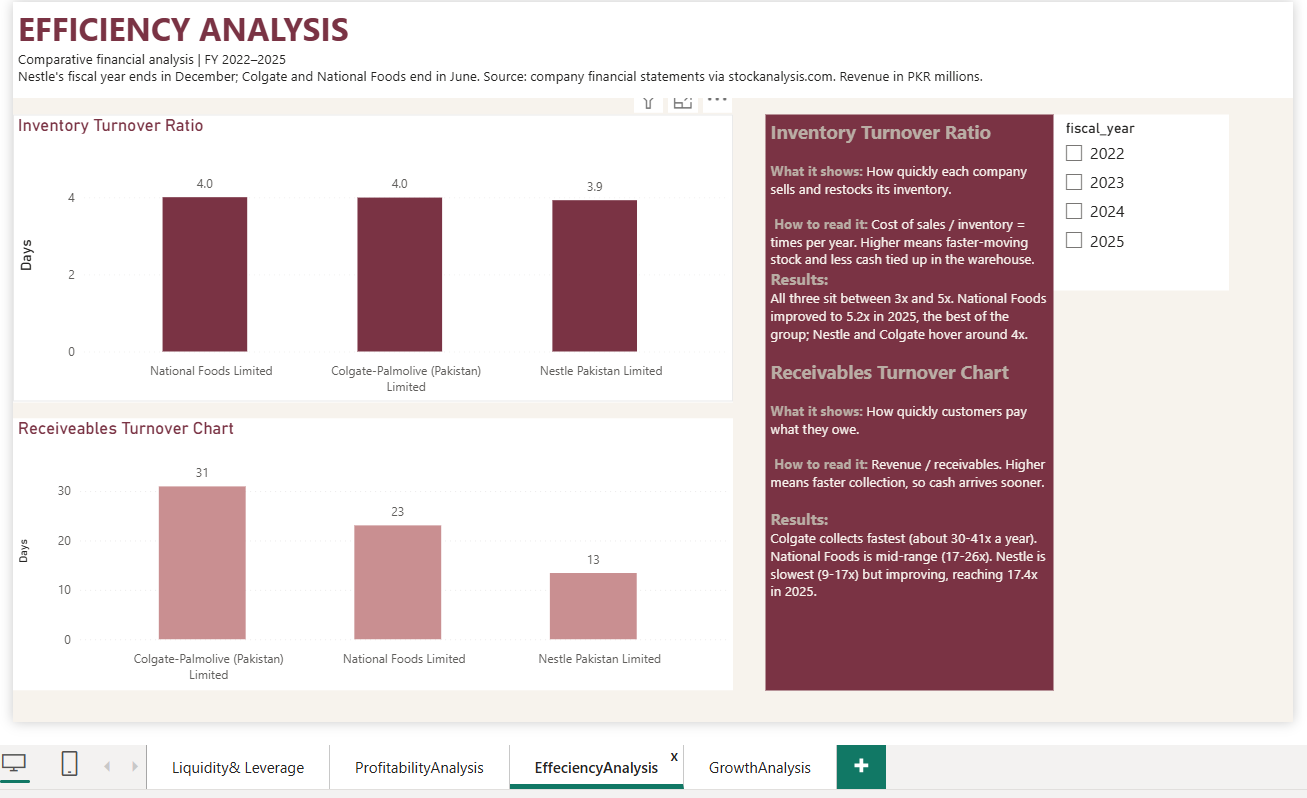

This screenshot's page, from the dashboard's own definition file:
{"tool":"powerbi","page":{"name":"EffeciencyAnalysis","canvas":[1280,720],"ordinal":2},"visuals":[{"type":"clusteredColumnChart","title":"Receiveables Turnover Chart","fields":{"Category":["public efficiency_ratios.company_name"],"Y":["Avg(public efficiency_ratios.receivables_turnover)"]},"box":[0,416,720,272],"z":0},{"type":"clusteredColumnChart","title":"Inventory Turnover Ratio","fields":{"Category":["public efficiency_ratios.company_name"],"Y":["Avg(public efficiency_ratios.inventory_turnover)"]},"box":[0,112,720,288],"z":1000},{"type":"textbox","box":[0,0,1280,96],"z":2000},{"type":"slicer","fields":{"Values":["Table.fiscal_year"]},"box":[1040,112,176,176],"z":3000},{"type":"textbox","box":[752,112,288,576],"z":3001}]}

Visuals, with their boxes on the page's 1280x720 design canvas (x1, y1, x2, y2). These are canvas units, not pixel positions in the 1307x798 screenshot, which may show the page scaled, cropped or inside an application window:
"Receiveables Turnover Chart" clusteredColumnChart: <bbox>0, 416, 720, 688</bbox>
"Inventory Turnover Ratio" clusteredColumnChart: <bbox>0, 112, 720, 400</bbox>
textbox: <bbox>0, 0, 1280, 96</bbox>
slicer - Table.fiscal_year: <bbox>1040, 112, 1216, 288</bbox>
textbox: <bbox>752, 112, 1040, 688</bbox>
